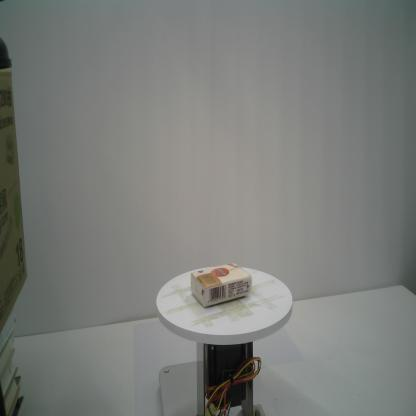Tissue: (190, 262, 252, 308)
